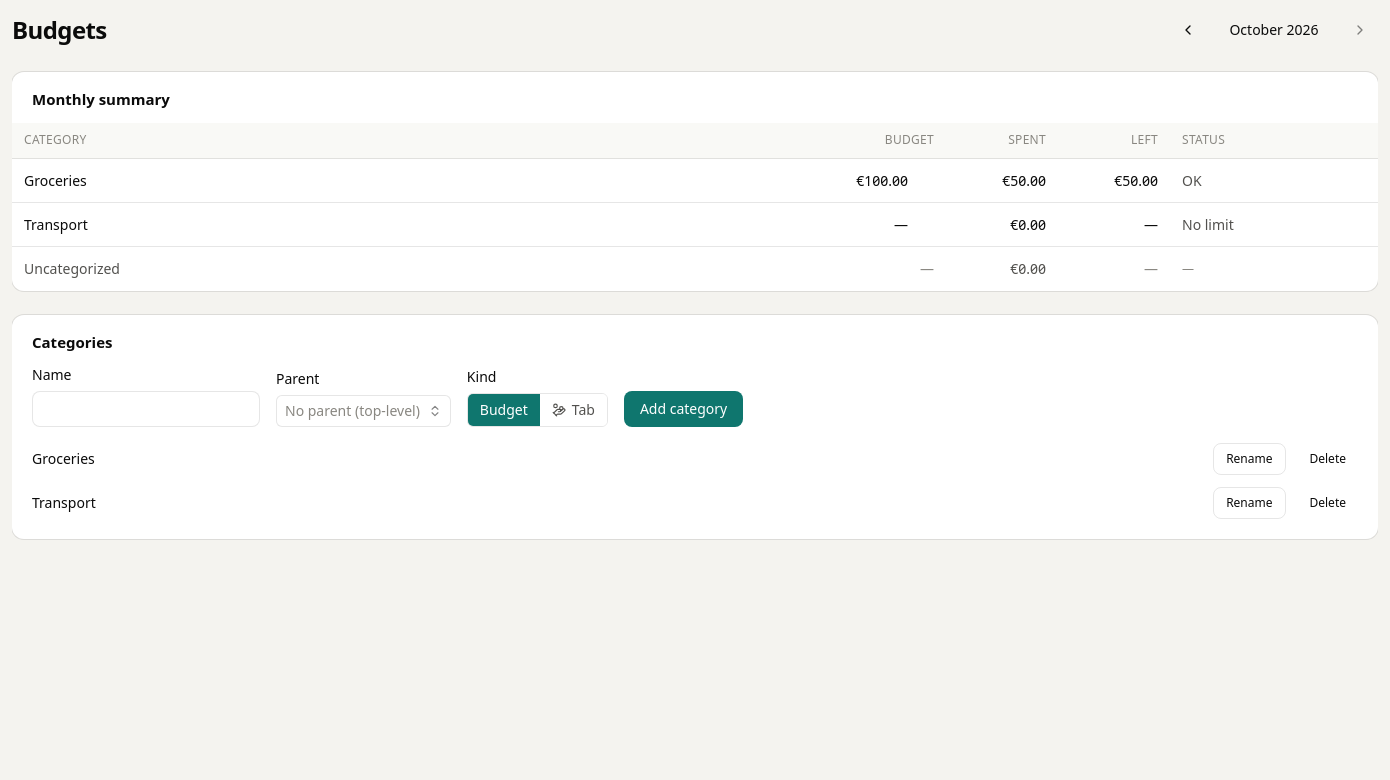
Test: BudgetsPage month › writes the month back to the address when switching
Click the button named "Previous month". click: (1188,30)
box: [1170, 12, 1206, 48]
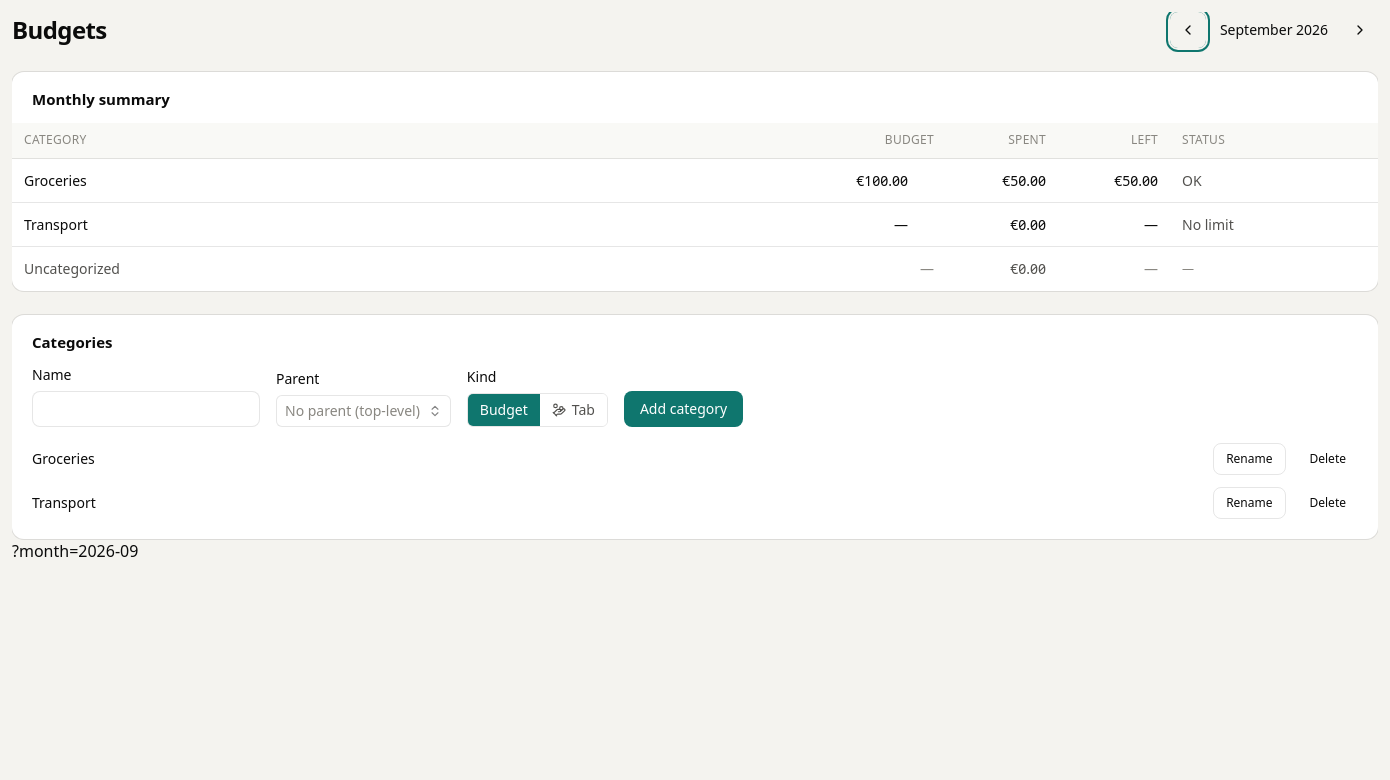
Expected: the text with test id "where" reads "?month=2026-09", [12, 540, 138, 562]
